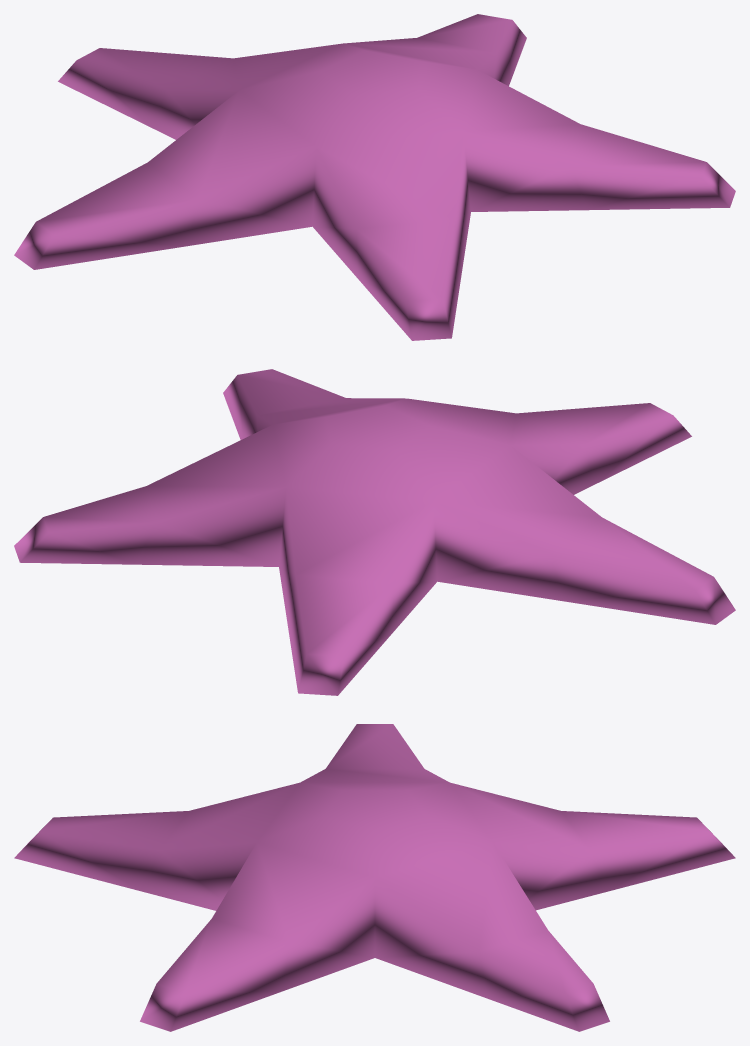
The model's file is cre_starfish02.fbx.
3 renders of one model, top to bottom at view 1: azimuth 30°, elevation 25°; view 2: azimuth 150°, elevation 25°; view 3: azimuth 270°, elevation 25°, orthographic. The views are drawn at different scales.
Visible parts, largest first — view 1: cre_starfish02; view 2: cre_starfish02; view 3: cre_starfish02.
Boxes of the visible parts, x1,y1,x2,y2 form: cre_starfish02: [14, 14, 735, 340]; cre_starfish02: [14, 369, 735, 695]; cre_starfish02: [14, 724, 735, 1031].
Bounding box in the file's own units: 19.15 × 3.1 × 20.17.
